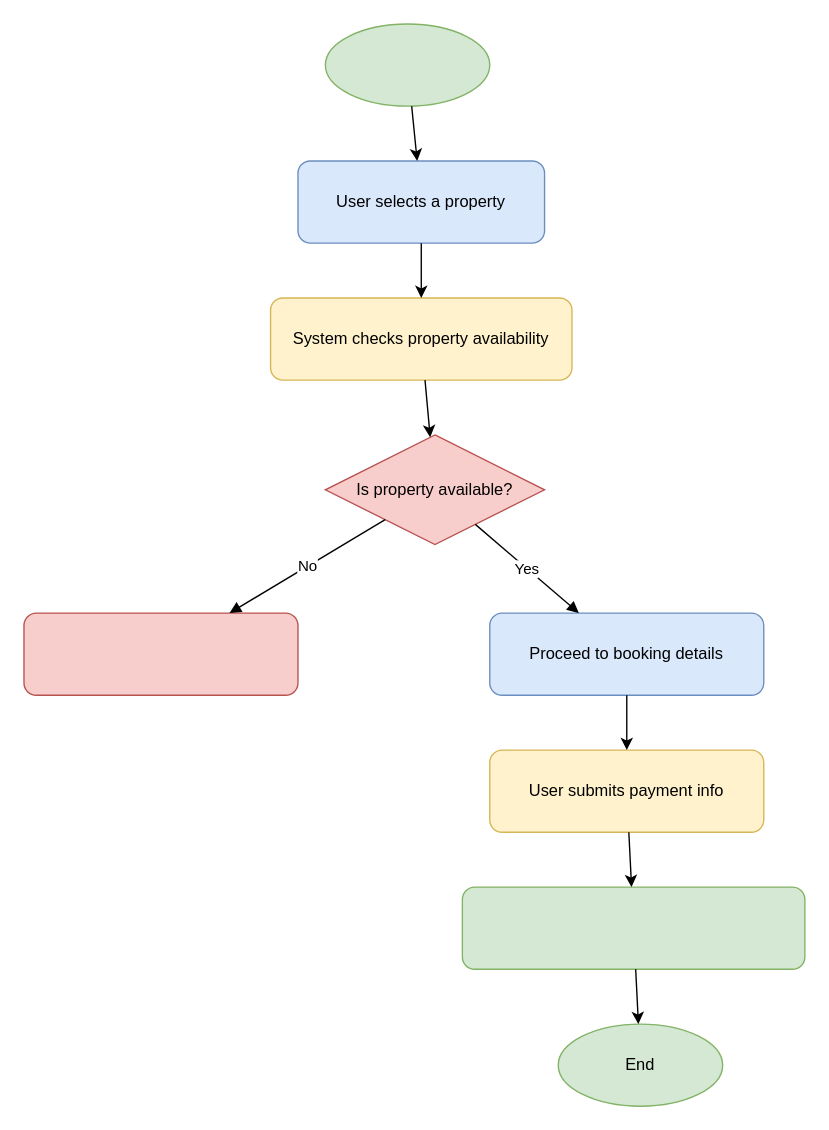
Some shapes in this 829 by 1130 pixel diagram are drawn without their labels. The centre of each missing label's shape, as x and y in pixels:
Notify user: Not available: the point at 160,653
Start: the point at 407,64
System confirms booking and sends email: the point at 633,927
